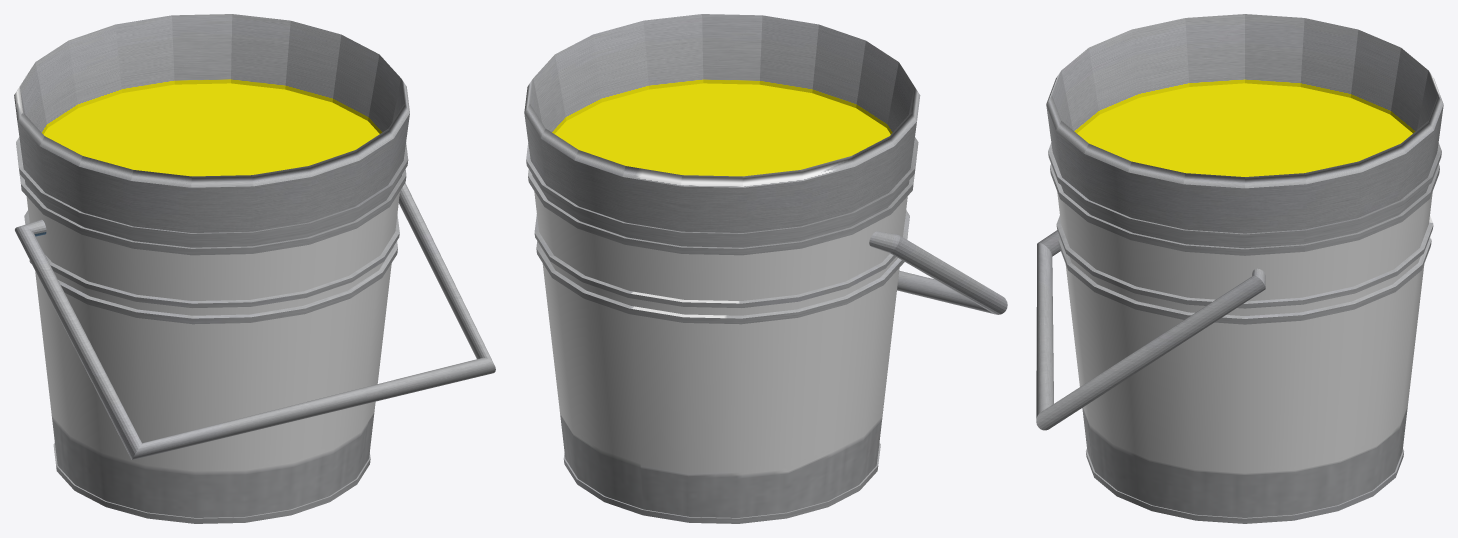
Rendered from PaintBucketYellow.fbx.
3 renders of one model, left to right at view 1: azimuth 30°, elevation 25°; view 2: azimuth 150°, elevation 25°; view 3: azimuth 270°, elevation 25°, orthographic.
Parts seen in each view (by area): view 1: PaintBocket; view 2: PaintBocket; view 3: PaintBocket.
Boxes of the visible parts, x1=… form: PaintBocket: x1=14, y1=14, x2=495, y2=523; PaintBocket: x1=524, y1=14, x2=1007, y2=523; PaintBocket: x1=1036, y1=14, x2=1443, y2=523.
Bounding box in the file's own units: 42.73 × 40.13 × 41.
